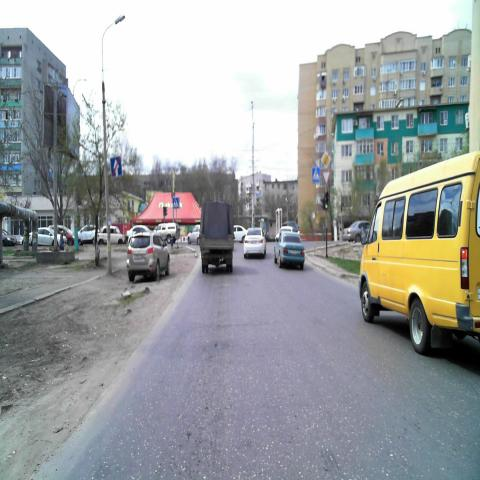2_2: (320, 150, 332, 169)
5_6: (110, 156, 123, 178)
